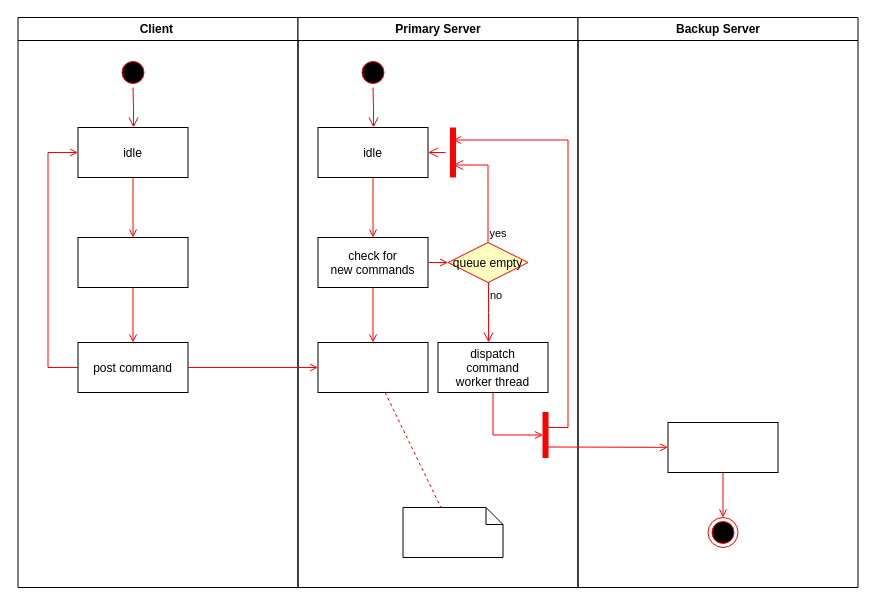
This 875x605 diagram has some shape labels left out. Each missing label, with the centre of its shape:
command queue: the point at 372,367
critical section: the point at 452,532
process command: the point at 722,447
user action: the point at 132,262
